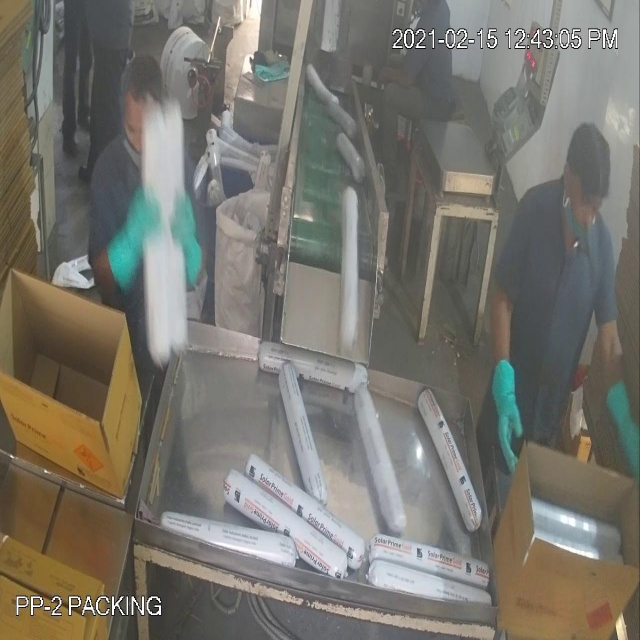Guantes: (104, 192, 160, 303), (489, 342, 528, 484), (600, 364, 640, 484)
Sin_guantes: (368, 52, 430, 109)
